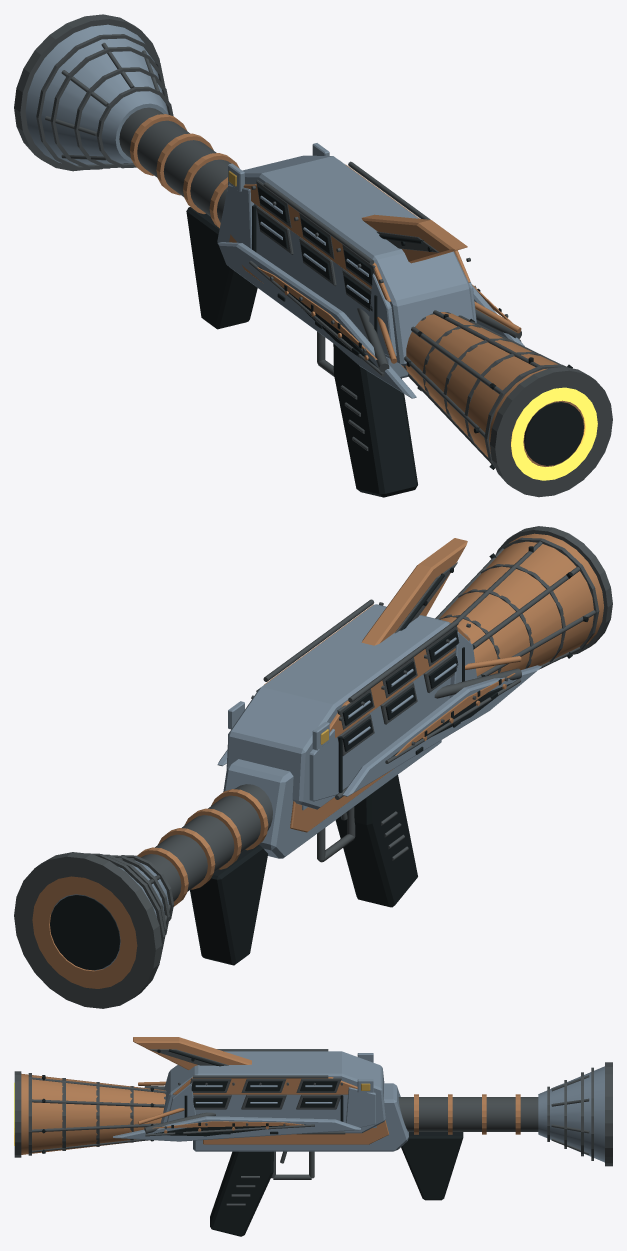
Rendered from kick_4.glb.
3 renders of one model, top to bottom at view 1: azimuth 30°, elevation 25°; view 2: azimuth 150°, elevation 25°; view 3: azimuth 270°, elevation 25°, orthographic. The views are drawn at different scales.
Parts seen in each view (by area): view 1: Weapon_kick_v1; view 2: Weapon_kick_v1; view 3: Weapon_kick_v1.
Part boxes in pixels (x1=…): Weapon_kick_v1: x1=14, y1=14, x2=612, y2=497; Weapon_kick_v1: x1=14, y1=526, x2=612, y2=1008; Weapon_kick_v1: x1=14, y1=1037, x2=612, y2=1236.
Size of the model in its own units: 0.156 by 0.3139 by 0.884.
